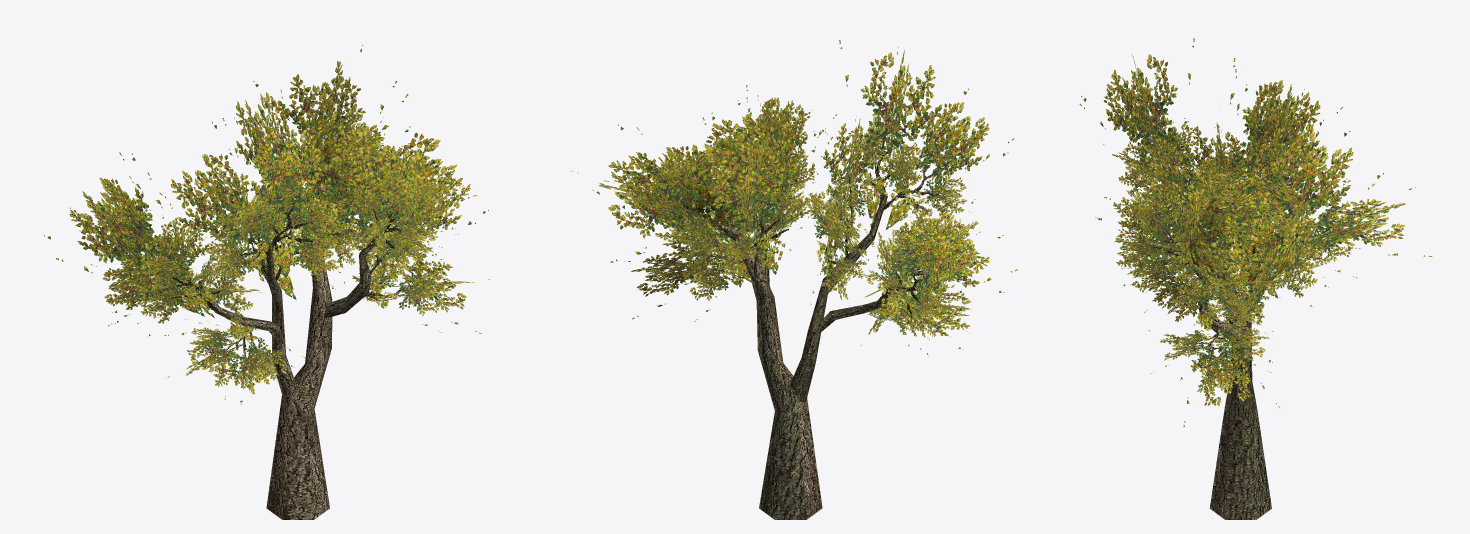
Rendered from flora_tree_oak_aut_new_v4.glb.
3 renders of one model, left to right at view 1: azimuth 30°, elevation 25°; view 2: azimuth 150°, elevation 25°; view 3: azimuth 270°, elevation 25°, orthographic. The views are drawn at different scales.
Visible parts, largest first — view 1: flora_tree_oak_aut_new_v4_part1, flora_tree_oak_aut_new_v4_part0; view 2: flora_tree_oak_aut_new_v4_part1, flora_tree_oak_aut_new_v4_part0; view 3: flora_tree_oak_aut_new_v4_part1, flora_tree_oak_aut_new_v4_part0.
Boxes of the visible parts, x1,y1,x2,y2 form: flora_tree_oak_aut_new_v4_part1: (44, 45, 490, 404); flora_tree_oak_aut_new_v4_part0: (134, 139, 423, 519); flora_tree_oak_aut_new_v4_part1: (571, 40, 1017, 356); flora_tree_oak_aut_new_v4_part0: (671, 127, 942, 519); flora_tree_oak_aut_new_v4_part1: (1079, 38, 1432, 427); flora_tree_oak_aut_new_v4_part0: (1143, 133, 1329, 519).
Bounding box in the file's own units: 28.82 × 27.6 × 22.09.
Materials: 2 (2 with a texture image).
